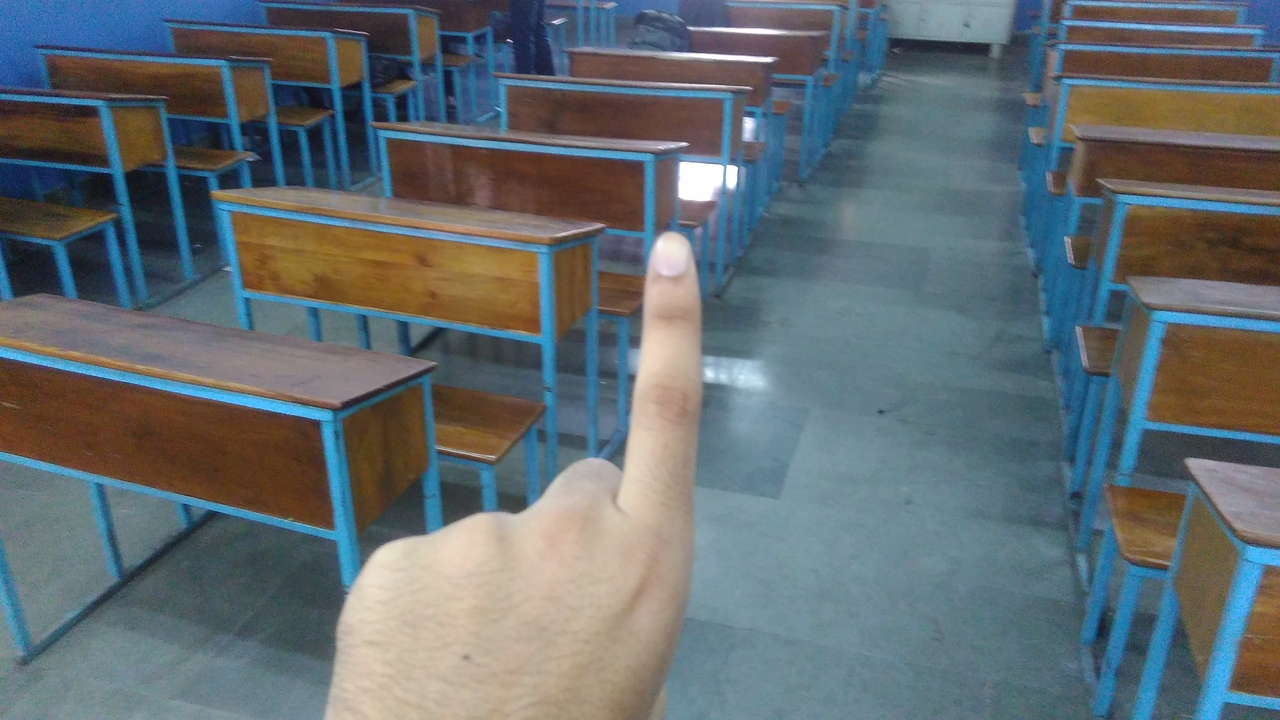fingertip: (640, 222, 702, 292)
